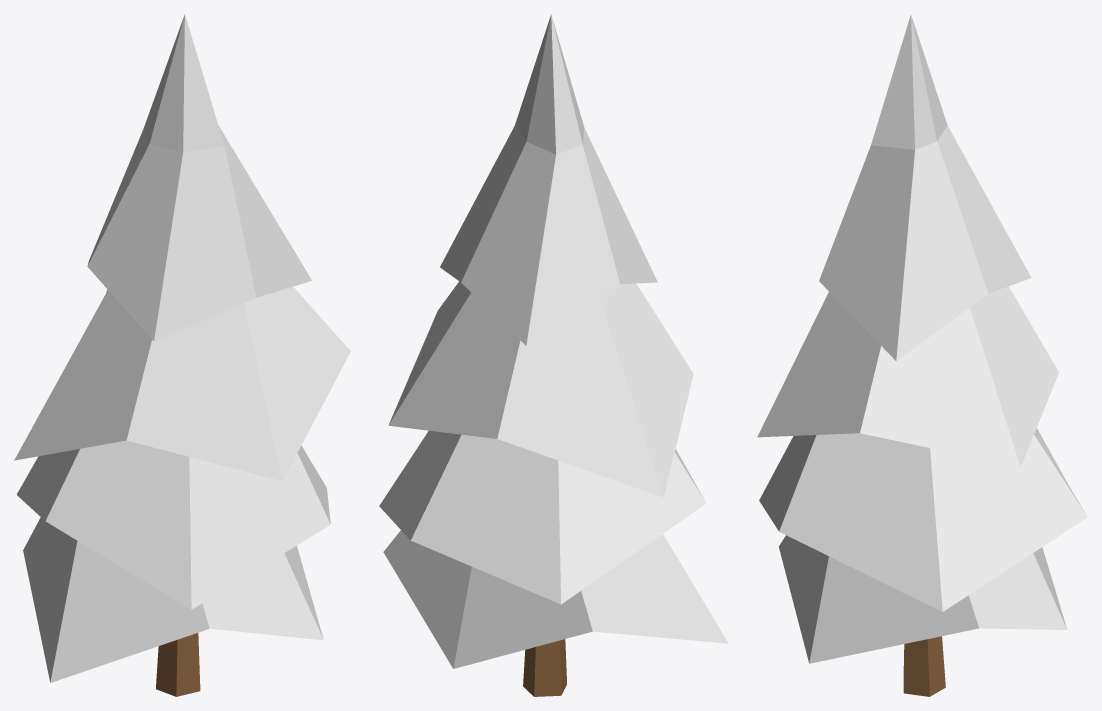
File: Pine_Tree_m_Snow_08.fbx
3 renders of one model, left to right at view 1: azimuth 30°, elevation 25°; view 2: azimuth 150°, elevation 25°; view 3: azimuth 270°, elevation 25°, orthographic.
Visible parts, largest first — view 1: Pine_Tree_m_Snow_08; view 2: Pine_Tree_m_Snow_08; view 3: Pine_Tree_m_Snow_08.
Boxes of the visible parts, x1,y1,x2,y2 form: Pine_Tree_m_Snow_08: (14,14,350,696); Pine_Tree_m_Snow_08: (379,14,728,696); Pine_Tree_m_Snow_08: (757,15,1087,696).
Size of the model in its own units: 285 by 585 by 260.
